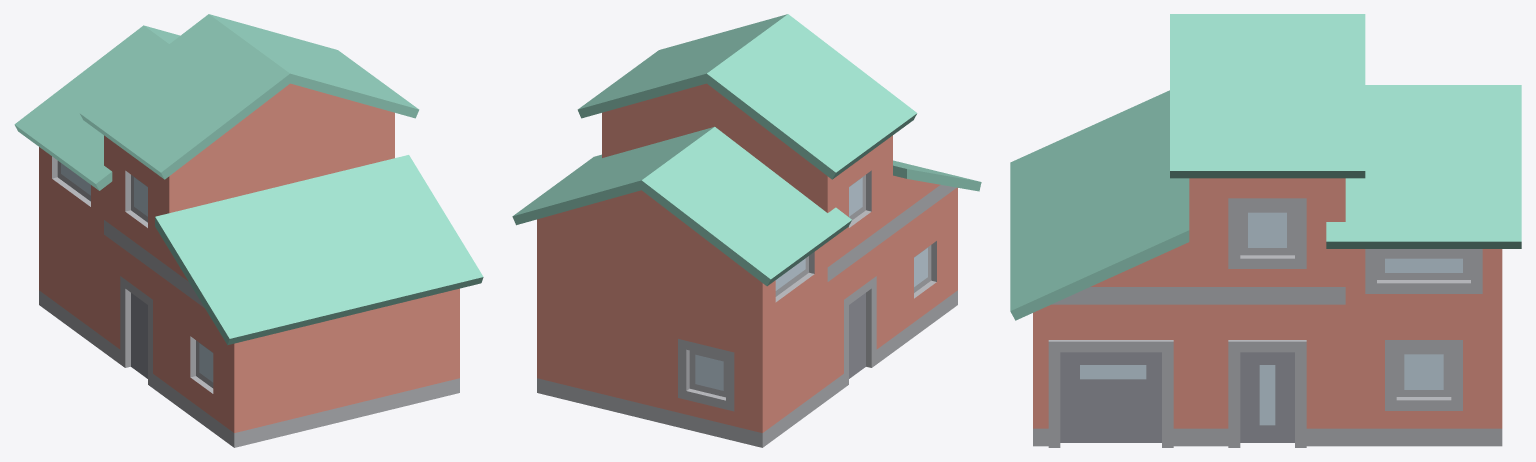
The model's file is house14.fbx.
3 views of the same model, side by side, from view 1: azimuth 30°, elevation 25°; view 2: azimuth 150°, elevation 25°; view 3: azimuth 270°, elevation 25° (orthographic). The views are drawn at different scales.
Visible parts, largest first — view 1: house_type14; view 2: house_type14; view 3: house_type14.
Part boxes in pixels (box(x1,y1,x2,y2)): house_type14: box(14, 14, 483, 447); house_type14: box(512, 14, 981, 447); house_type14: box(1010, 14, 1521, 447).
Size of the model in its own units: 916 by 1034 by 1308.
